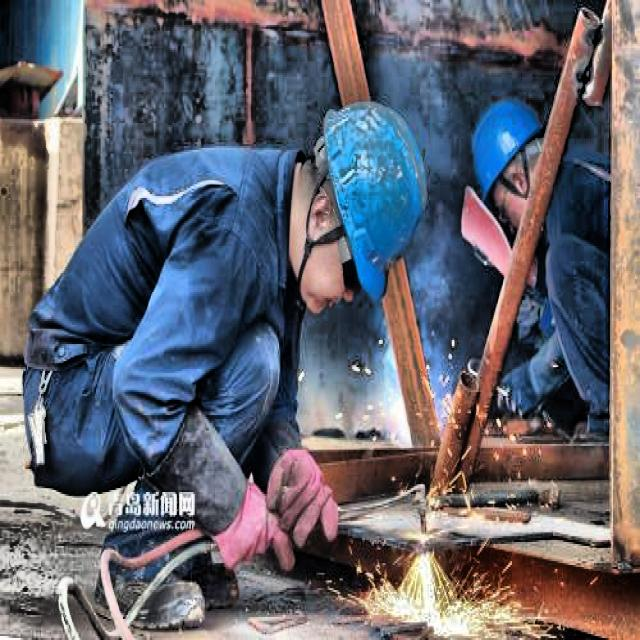helmet: (296, 92, 432, 308), (463, 92, 552, 227)
